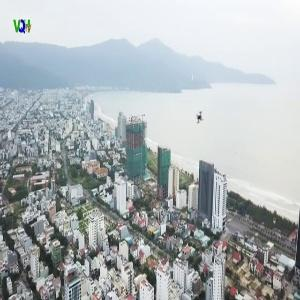drone: (187, 100, 224, 137)
